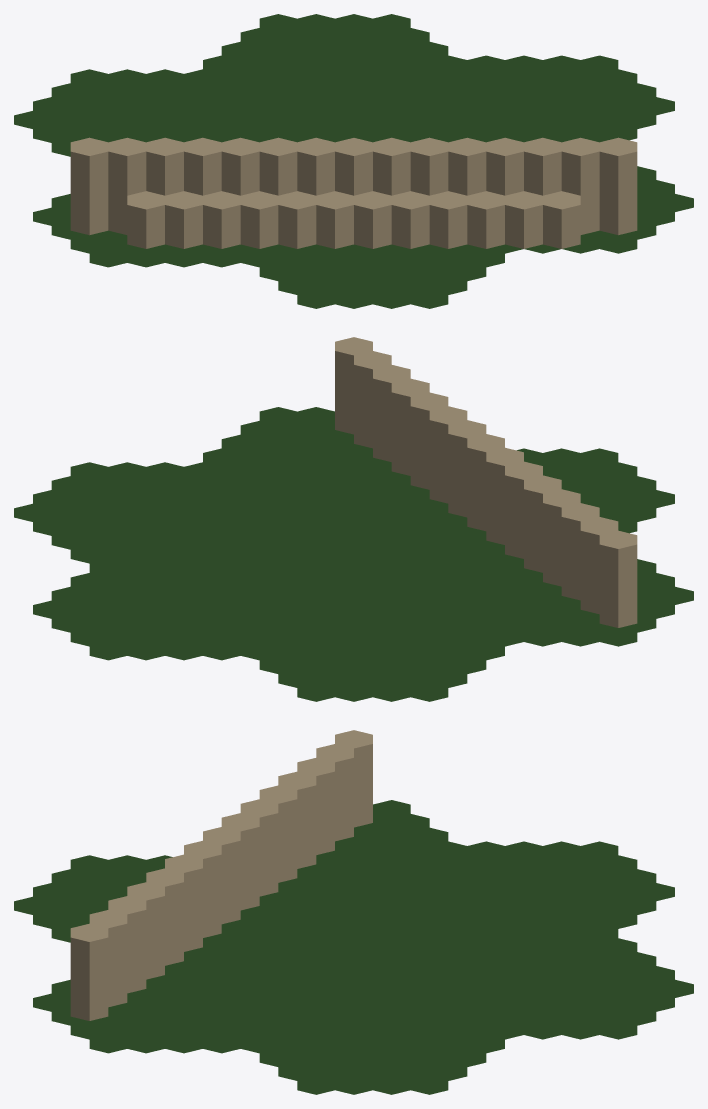
3 renders of one model, top to bottom at view 1: azimuth 30°, elevation 25°; view 2: azimuth 150°, elevation 25°; view 3: azimuth 270°, elevation 25°, orthographic.
Visible parts, largest first — view 1: group4_pCylinder56, pasted__pCylinder199, pasted__pCylinder203, pasted__pCylinder200, pasted__pCylinder201, pasted__pCylinder202, pasted__pCylinder205, pasted__pCylinder207, pasted__pCylinder204, pasted__pCylinder206; view 2: group4_pCylinder56, pasted__pCylinder203, pasted__pCylinder200, pasted__pCylinder201, pasted__pCylinder202, pasted__pCylinder199; view 3: group4_pCylinder56, pasted__pCylinder199, pasted__pCylinder202, pasted__pCylinder201, pasted__pCylinder200, pasted__pCylinder203.
Boxes of the visible parts, x1=… form: group4_pCylinder56: x1=14, y1=14, x2=693, y2=308; pasted__pCylinder199: x1=524, y1=137, x2=637, y2=235; pasted__pCylinder203: x1=70, y1=137, x2=183, y2=235; pasted__pCylinder200: x1=410, y1=137, x2=523, y2=195; pasted__pCylinder201: x1=297, y1=137, x2=410, y2=195; pasted__pCylinder202: x1=184, y1=137, x2=297, y2=195; pasted__pCylinder205: x1=467, y1=191, x2=580, y2=248; pasted__pCylinder207: x1=127, y1=191, x2=240, y2=248; pasted__pCylinder204: x1=354, y1=191, x2=467, y2=248; pasted__pCylinder206: x1=240, y1=191, x2=353, y2=248; group4_pCylinder56: x1=14, y1=407, x2=693, y2=701; pasted__pCylinder203: x1=561, y1=503, x2=637, y2=627; pasted__pCylinder200: x1=391, y1=378, x2=467, y2=503; pasted__pCylinder201: x1=448, y1=420, x2=523, y2=544; pasted__pCylinder202: x1=505, y1=461, x2=580, y2=586; pasted__pCylinder199: x1=335, y1=337, x2=410, y2=461; group4_pCylinder56: x1=14, y1=800, x2=693, y2=1094; pasted__pCylinder199: x1=70, y1=896, x2=146, y2=1020; pasted__pCylinder202: x1=240, y1=771, x2=316, y2=896; pasted__pCylinder201: x1=184, y1=813, x2=259, y2=937; pasted__pCylinder200: x1=127, y1=854, x2=202, y2=979; pasted__pCylinder203: x1=297, y1=730, x2=372, y2=854.
Size of the model in its own units: 0.32 by 0.04 by 0.3118.
